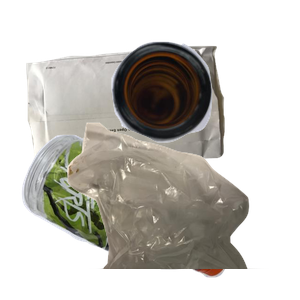glass: (109, 39, 300, 175)
paper: (24, 43, 242, 202)
plastic: (19, 132, 242, 300)
trash: (65, 120, 300, 300)
